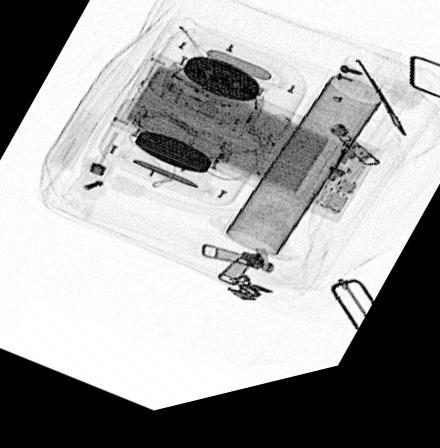Powerbank: (106, 60, 381, 241)
